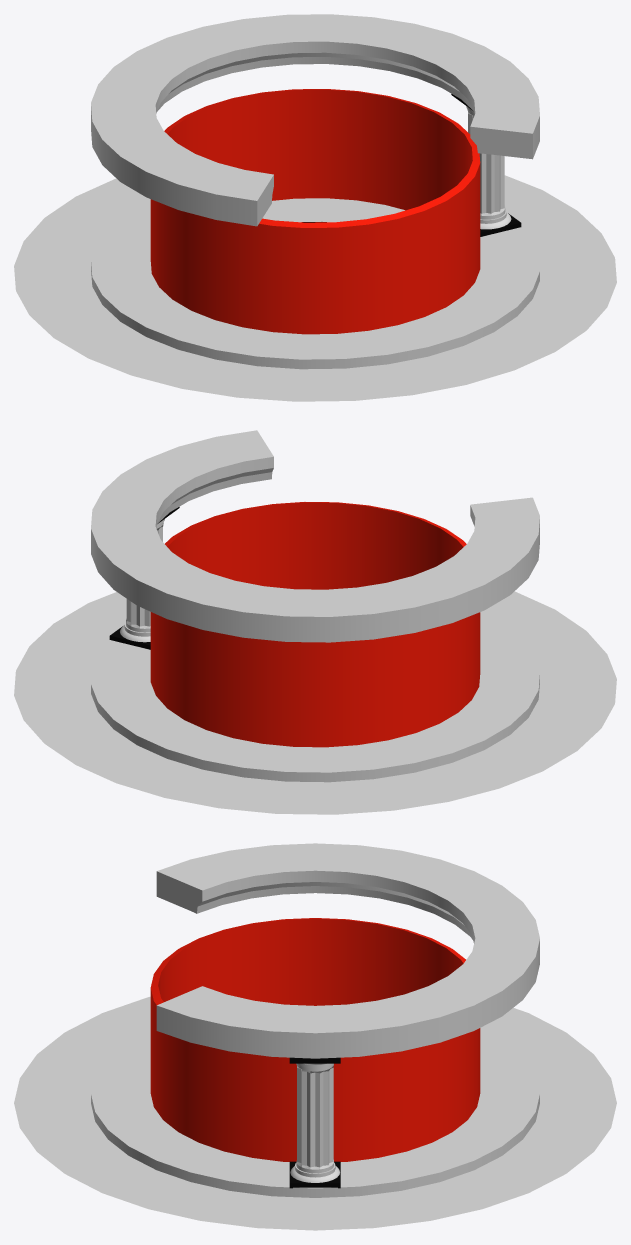
Rendered from sun_house.fbx.
3 views of the same model, one above another, from view 1: azimuth 30°, elevation 25°; view 2: azimuth 150°, elevation 25°; view 3: azimuth 270°, elevation 25° (orthographic).
Parts seen in each view (by area): view 1: sun_house_floor, sun_house_barrier, sun_house_roof, sun_pillar; view 2: sun_house_floor, sun_house_barrier, sun_house_roof, sun_pillar; view 3: sun_house_floor, sun_house_barrier, sun_house_roof, sun_pillar.
Part boxes in pixels (x1=…): sun_house_floor: x1=14, y1=175, x2=616, y2=401; sun_house_barrier: x1=150, y1=89, x2=480, y2=334; sun_house_roof: x1=91, y1=14, x2=539, y2=226; sun_pillar: x1=451, y1=94, x2=521, y2=236; sun_house_floor: x1=14, y1=591, x2=616, y2=814; sun_house_barrier: x1=150, y1=502, x2=480, y2=747; sun_house_roof: x1=91, y1=430, x2=539, y2=642; sun_pillar: x1=109, y1=507, x2=179, y2=649; sun_house_floor: x1=14, y1=996, x2=616, y2=1230; sun_house_barrier: x1=150, y1=918, x2=480, y2=1161; sun_house_roof: x1=156, y1=843, x2=539, y2=1058; sun_pillar: x1=289, y1=1057, x2=340, y2=1188.
Bounding box in the file's own units: 33.88 × 10.22 × 33.88.
